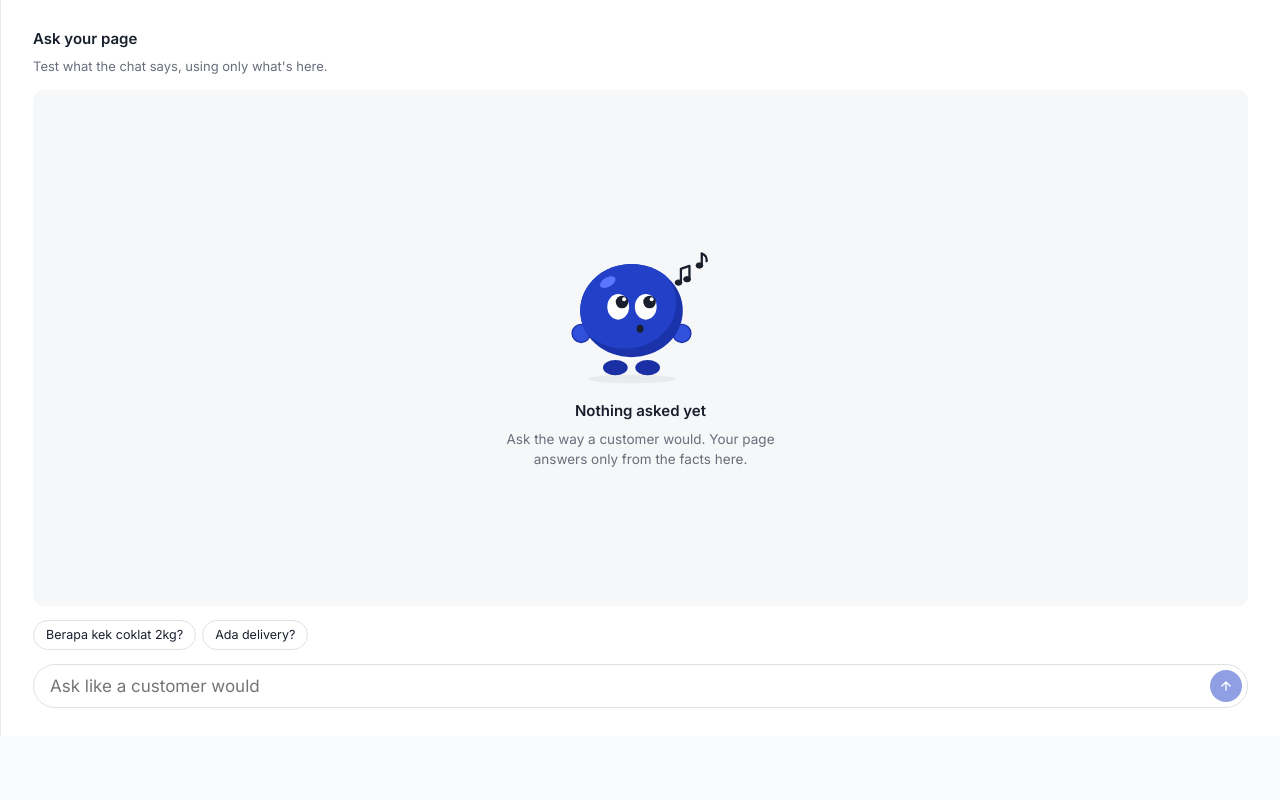
AskPanel › puts the question back and says why when asking fails
Step 1. Type "Berapa 2kg?" into the field named "Ask your page" → (626, 686), box x1=48 y1=670 x2=1204 y2=702
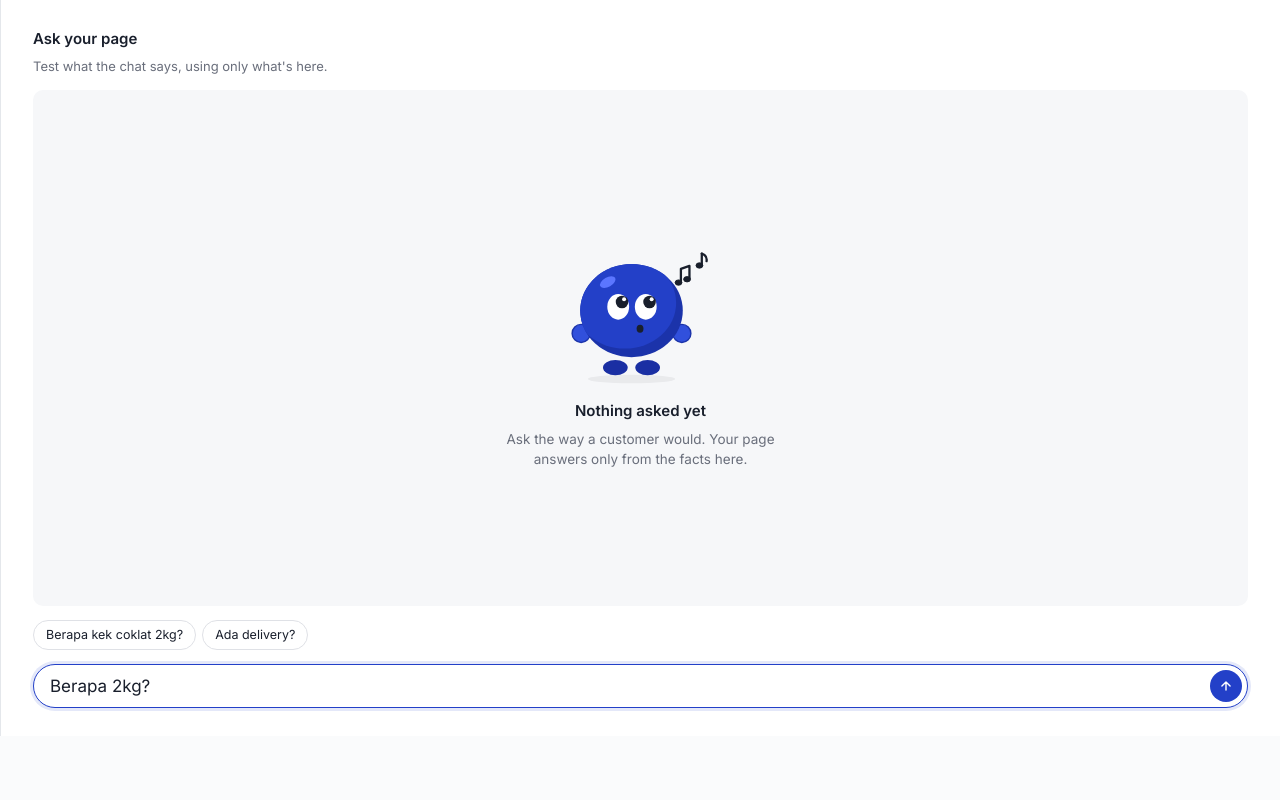
Step 2. Click the button named "Send" → (1226, 686), box x1=1210 y1=670 x2=1242 y2=702
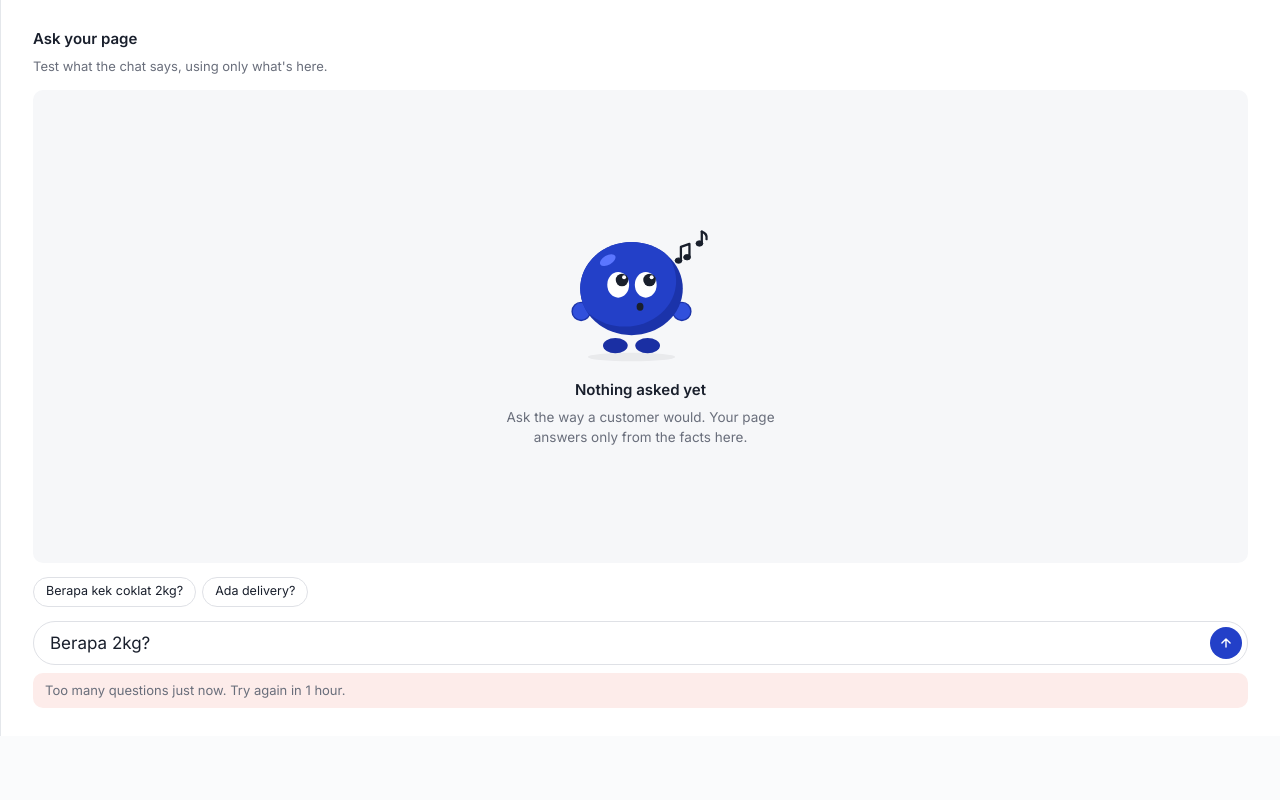
Check: the message shows "Too many questions just now.", box x1=45 y1=682 x2=345 y2=698
